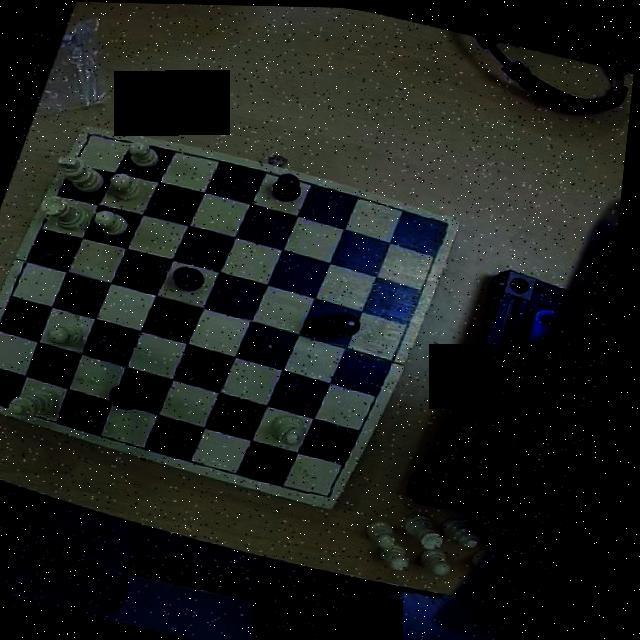chess-table-corners: (314, 468, 353, 506), (424, 210, 461, 247), (76, 124, 110, 154), (0, 374, 9, 410)
